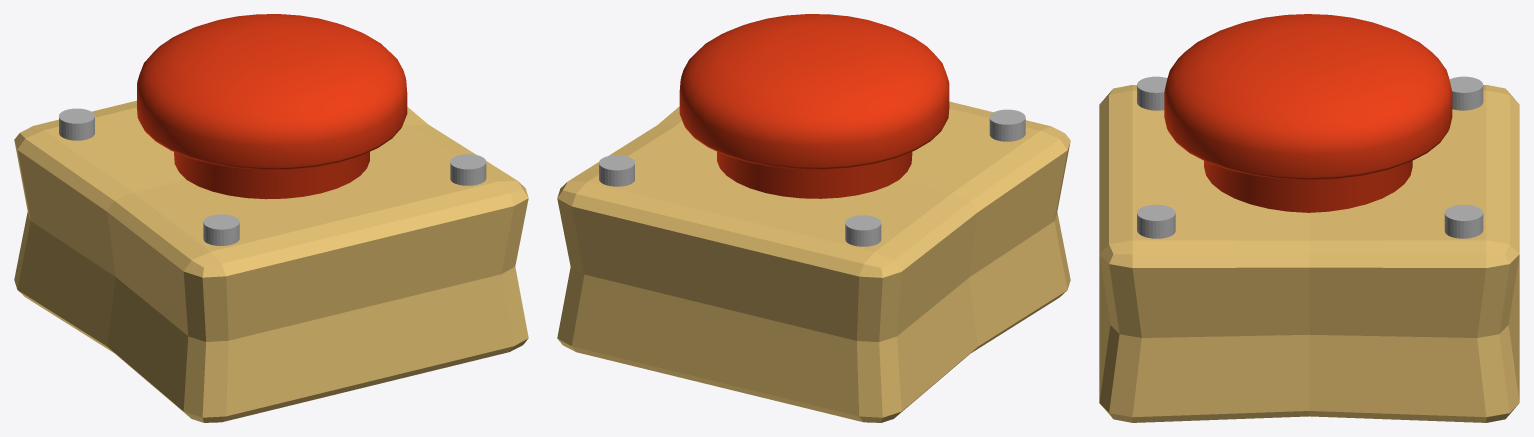
File: red button.fbx
The picture shows the model from 3 angles, left to right: view 1: azimuth 30°, elevation 25°; view 2: azimuth 150°, elevation 25°; view 3: azimuth 270°, elevation 25°; orthographic projection. The views are drawn at different scales.
Parts seen in each view (by area): view 1: Cylinder.002; view 2: Cylinder.002; view 3: Cylinder.002.
Boxes of the visible parts, <box> form: Cylinder.002: <box>14,14,528,422</box>; Cylinder.002: <box>557,14,1070,422</box>; Cylinder.002: <box>1099,14,1519,422</box>.
Bounding box in the file's own units: 82.99 × 64.71 × 82.99.
